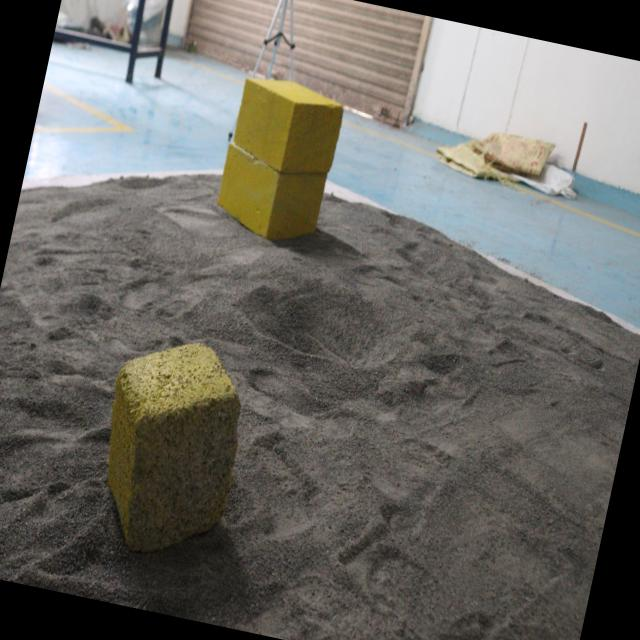box: (82, 317, 258, 560), (205, 76, 348, 254)
crater: (216, 255, 424, 388)
